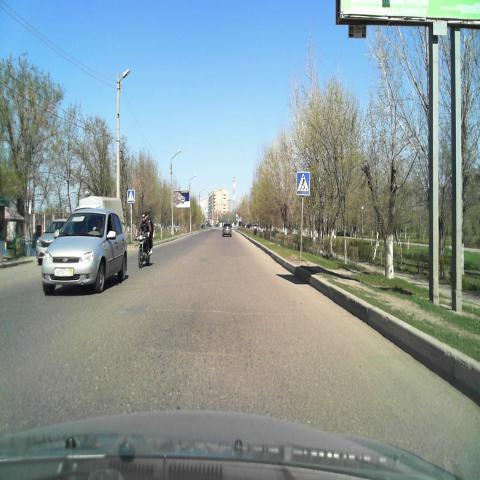5_19_1: (297, 171, 310, 195), (127, 189, 135, 203)
